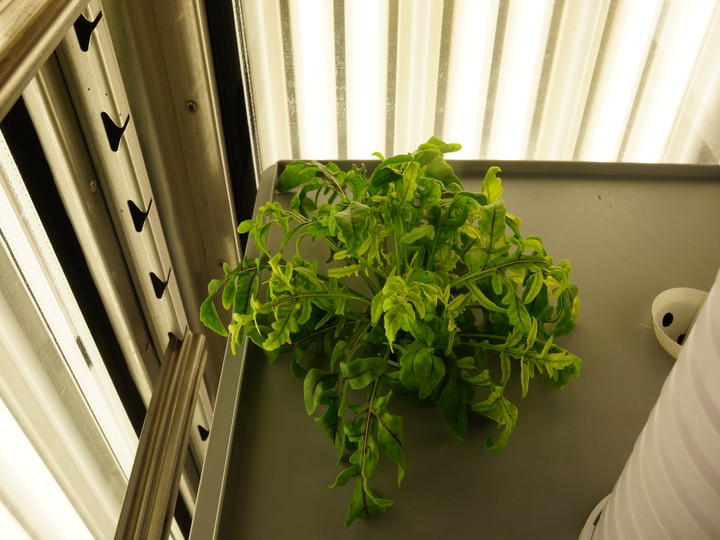roquette_sauvage_red_veined: (188, 136, 602, 522)
